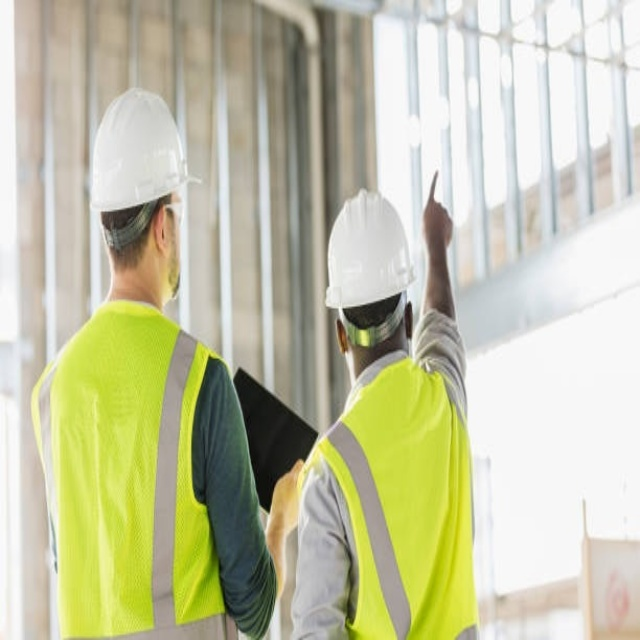Gafas: (159, 192, 187, 226)
Sin_guantes: (421, 169, 453, 261), (268, 463, 304, 535)
